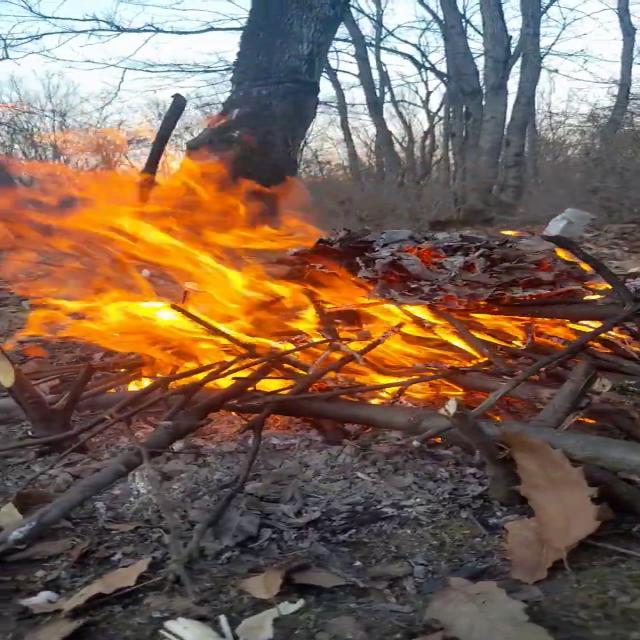Fire: (1, 128, 625, 402)
